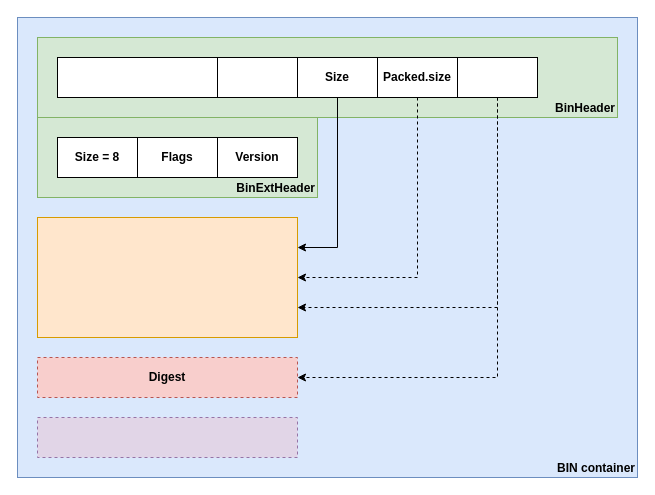
Some shapes in this 655 by 495 pixel diagram are drawn without their labels. The centre of each missing label's shape, as x and y in pixels:
"Data" belongs at point 167,277.
"Extra" belongs at point 167,437.
"Packed.type" belongs at point 497,77.
"Platform" belongs at point 257,77.
"Type = HeaderType.VRFX" belongs at point 137,77.
